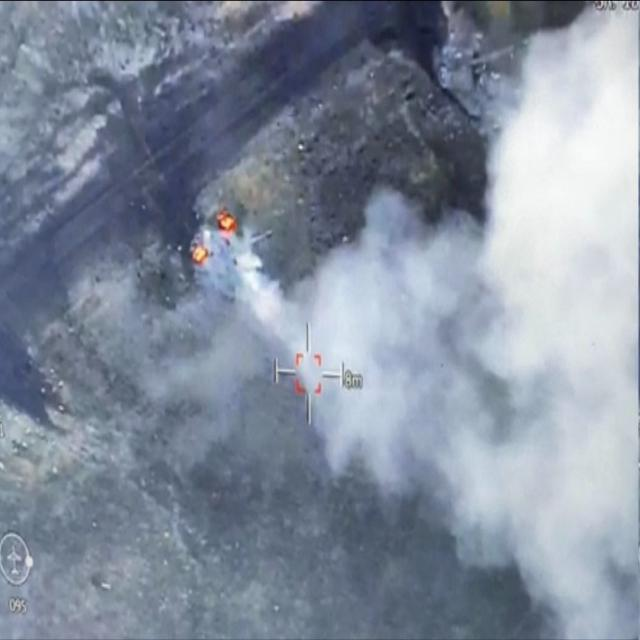destroyed: (191, 230, 265, 296)
